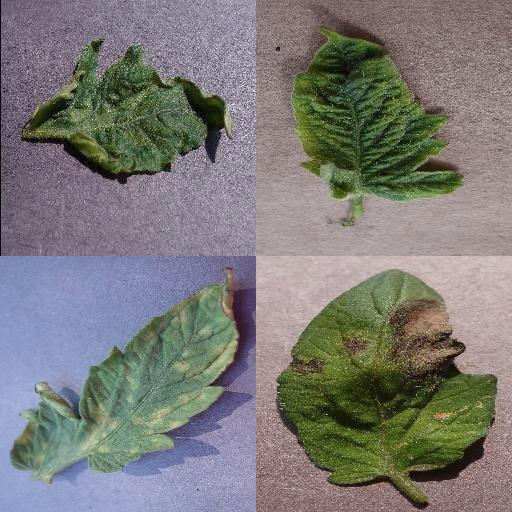Late Blight: (278, 267, 498, 487)
Leaf Mold: (9, 264, 240, 474)
Mosaic Virus: (28, 39, 232, 175)
Yellow Leaf Curl Virus: (291, 24, 465, 204)
